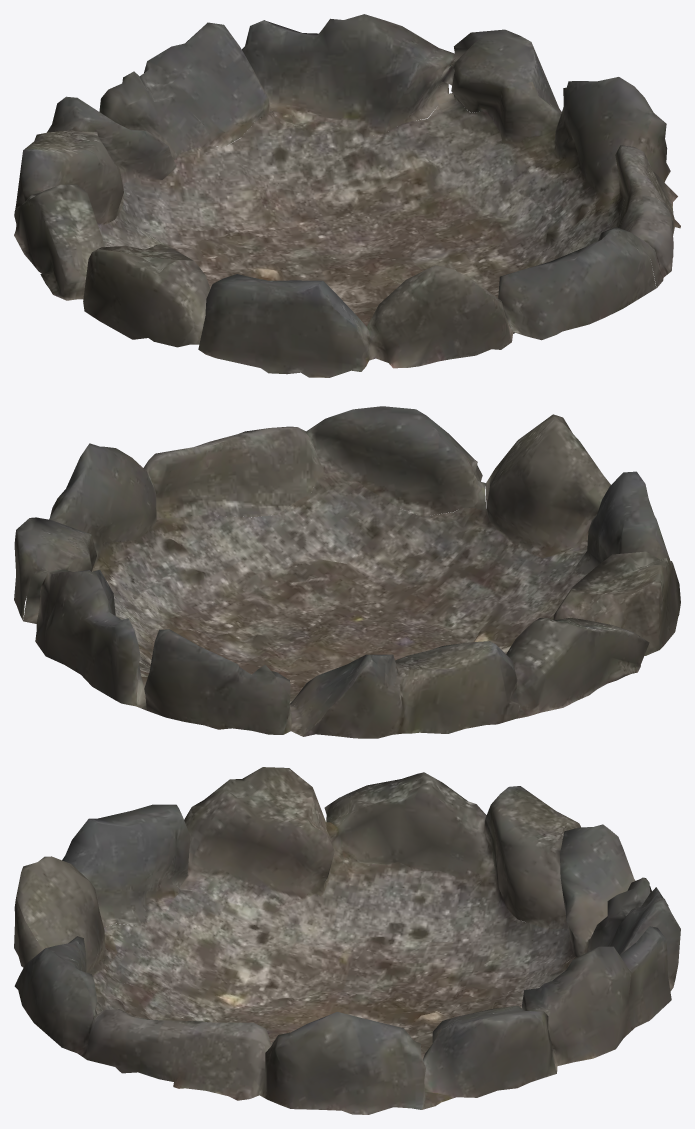
File: stone_fire_pit.glb
3 views of the same model, one above another, from view 1: azimuth 30°, elevation 25°; view 2: azimuth 150°, elevation 25°; view 3: azimuth 270°, elevation 25° (orthographic).
Visible parts, largest first — view 1: stone_fire_pit; view 2: stone_fire_pit; view 3: stone_fire_pit.
Boxes of the visible parts, x1=… form: stone_fire_pit: x1=14, y1=14, x2=680, y2=377; stone_fire_pit: x1=14, y1=406, x2=680, y2=738; stone_fire_pit: x1=14, y1=767, x2=680, y2=1114.
Size of the model in its own units: 1.45 by 0.3865 by 1.43.
Materials: 1 (1 with a texture image).
